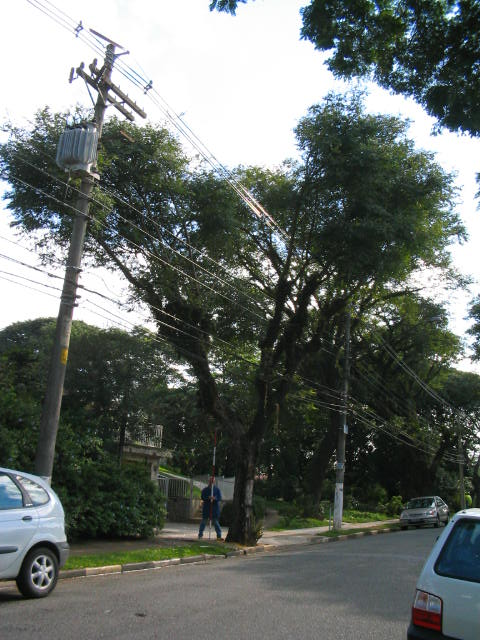crown: (7, 98, 465, 355)
stem: (224, 440, 274, 545)
stick: (201, 433, 225, 540)
tree: (4, 96, 468, 546)
